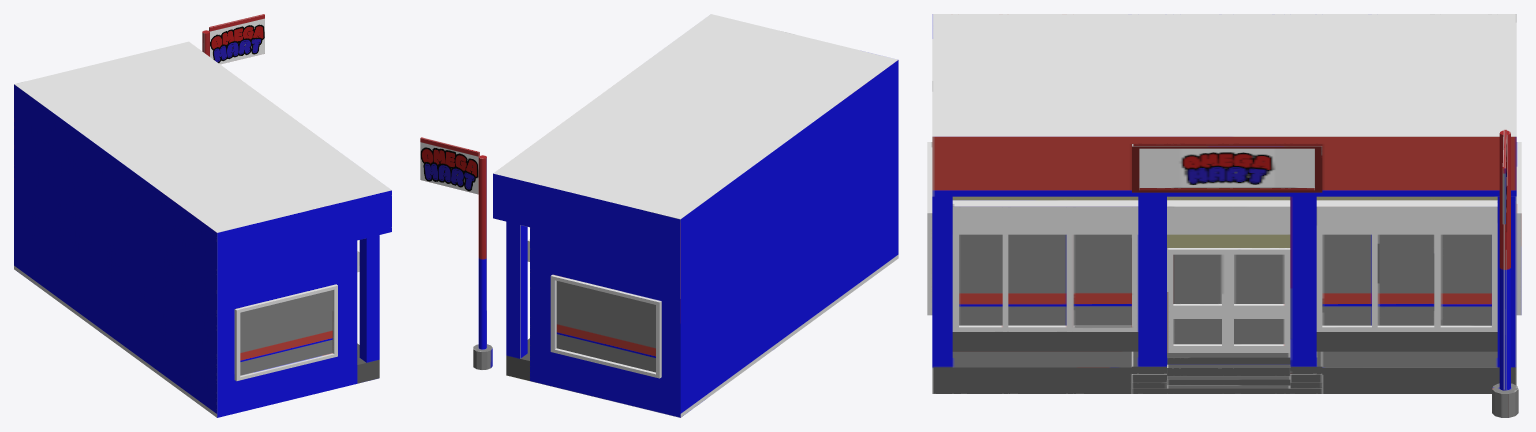
File: Omegamart.fbx
The picture shows the model from 3 angles, left to right: view 1: azimuth 30°, elevation 25°; view 2: azimuth 150°, elevation 25°; view 3: azimuth 270°, elevation 25°; orthographic projection. The views are drawn at different scales.
Visible parts, largest first — view 1: omega; view 2: omega; view 3: omega.
Part boxes in pixels (<box>): omega: <box>14,14,391,417</box>; omega: <box>420,14,898,417</box>; omega: <box>927,14,1521,417</box>.
Bounding box in the file's own units: 2790 × 2147 × 4056.
1 material, 1 textured.
